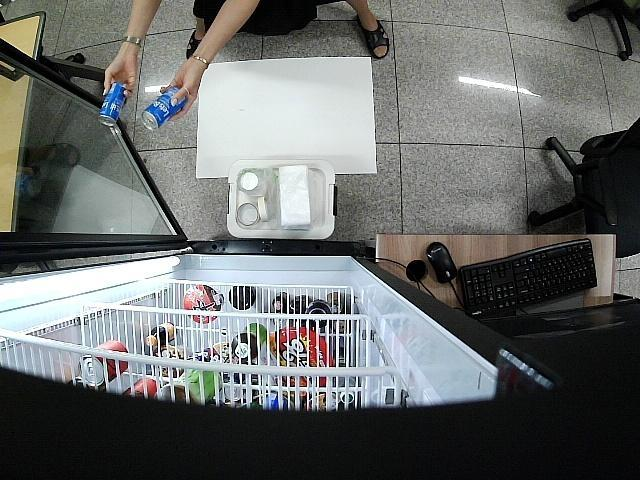15_letsbe: (140, 86, 186, 130), (99, 80, 126, 124)
